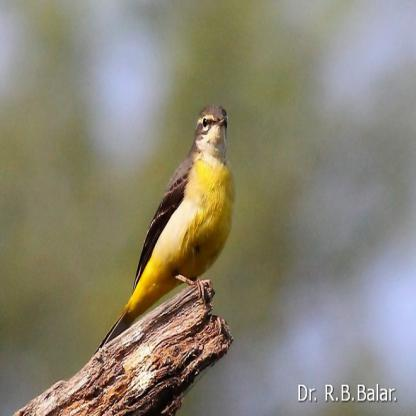Burung: (95, 103, 233, 354)
